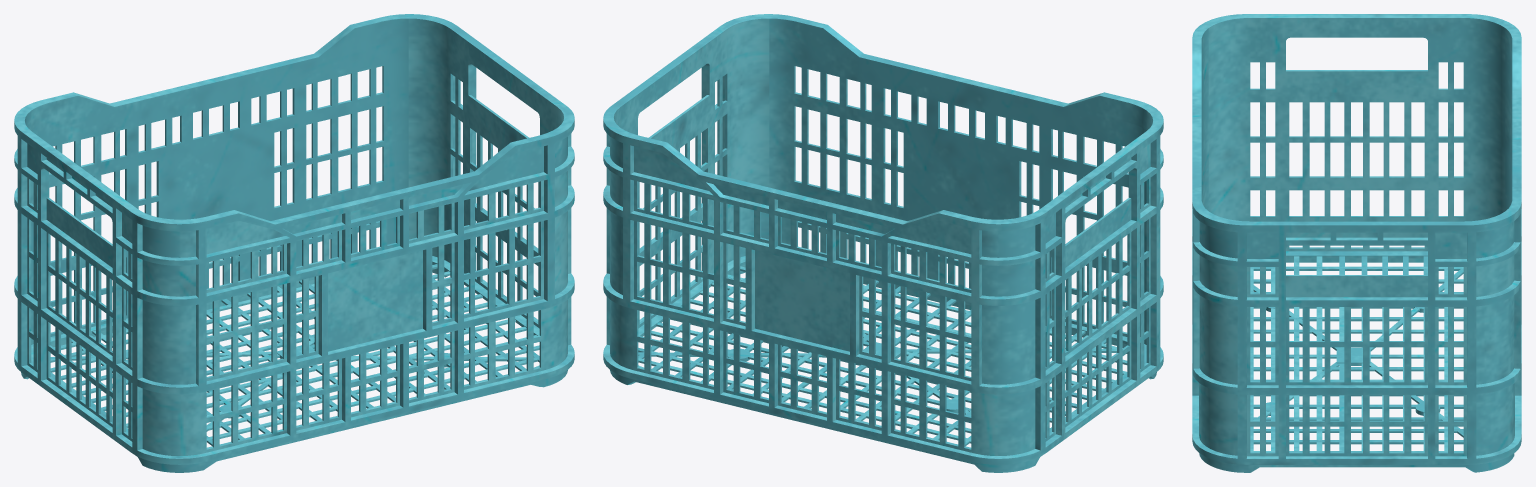
Rendered from plastic_crate.glb.
3 views of the same model, side by side, from view 1: azimuth 30°, elevation 25°; view 2: azimuth 150°, elevation 25°; view 3: azimuth 270°, elevation 25° (orthographic).
Visible parts, largest first — view 1: PlasticCrate; view 2: PlasticCrate; view 3: PlasticCrate.
Boxes of the visible parts, bbox=[...] form: PlasticCrate: bbox=[14, 14, 574, 472]; PlasticCrate: bbox=[603, 14, 1163, 472]; PlasticCrate: bbox=[1192, 14, 1521, 472].
Bounding box in the file's own units: 0.6899 × 0.381 × 0.4537.
1 material, 1 textured.
